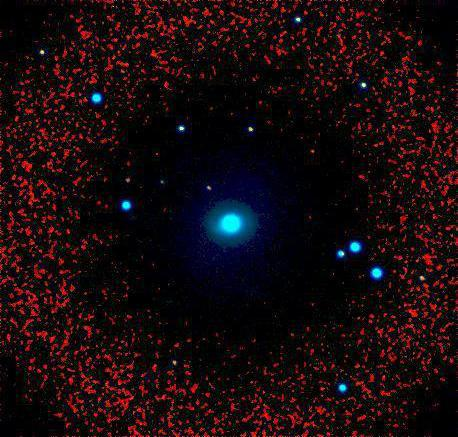star: (298, 136, 328, 166)
